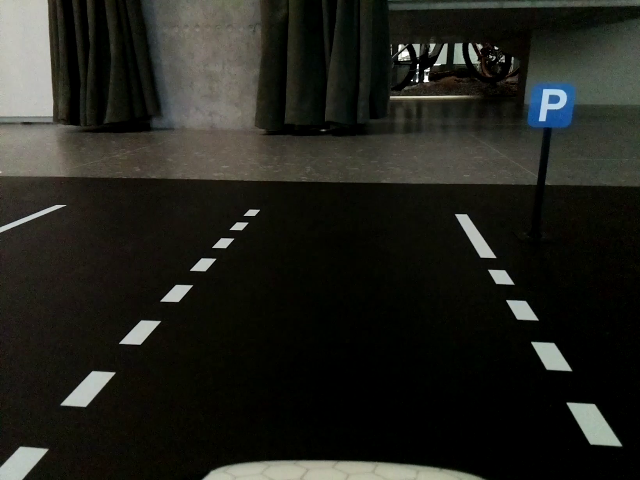park: (527, 85, 574, 129)
